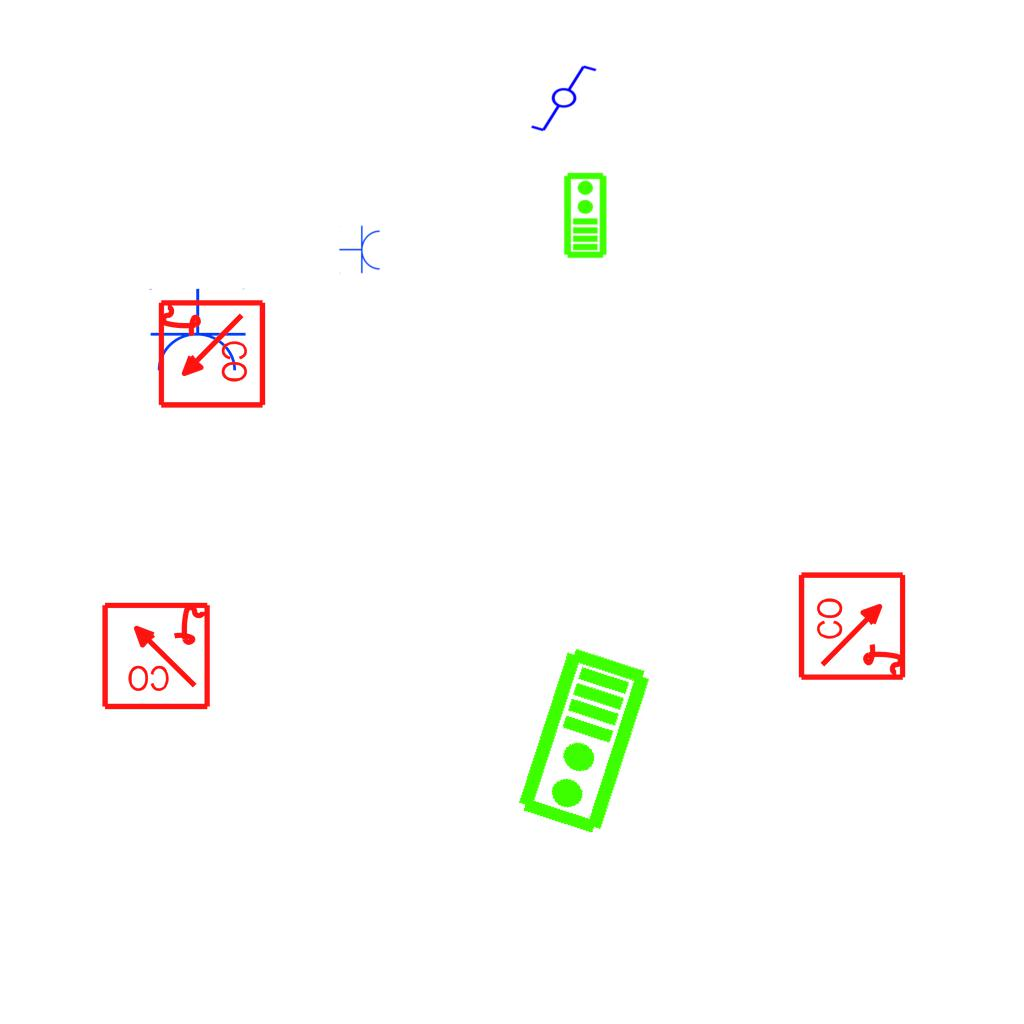Gegensprechanlage_mit_Video: (513, 643, 658, 841), (561, 171, 608, 259)
ROA_Rauchmelder_optisch_mit_Signalgeber_(Sockelsirene): (99, 598, 212, 711), (797, 569, 910, 682), (154, 298, 267, 411)
Schukosteckdose_einfach: (147, 288, 247, 375), (339, 225, 382, 275)
Wechselschalter: (529, 63, 607, 135)
